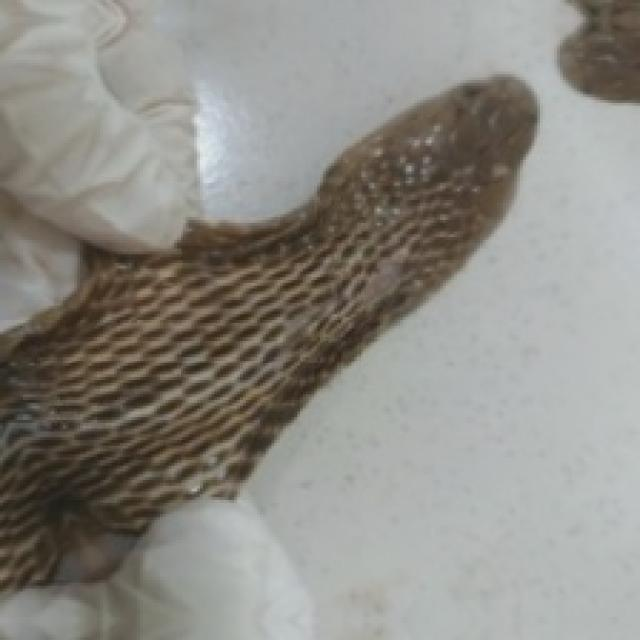philippine cobra: (0, 77, 534, 637)
